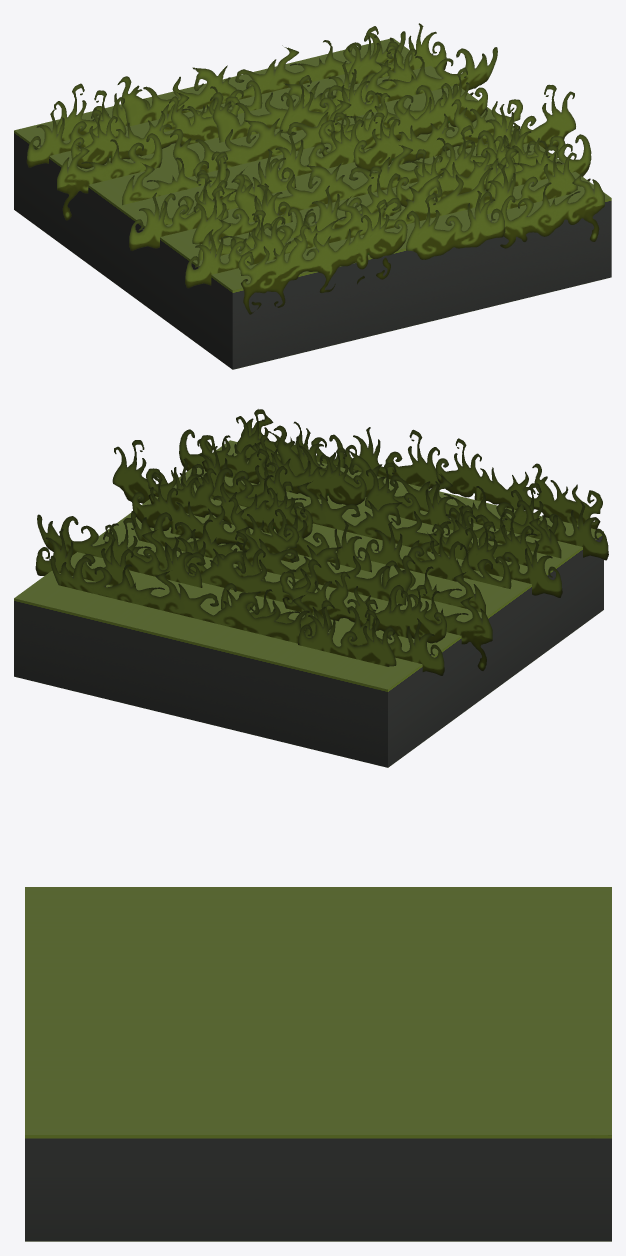
Rendered from Gound_Tile_01.fbx.
3 views of the same model, one above another, from view 1: azimuth 30°, elevation 25°; view 2: azimuth 150°, elevation 25°; view 3: azimuth 270°, elevation 25° (orthographic). The views are drawn at different scales.
Parts seen in each view (by area): view 1: Ground_Tile01; view 2: Ground_Tile01; view 3: Ground_Tile01.
Part boxes in pixels (x1=…): Ground_Tile01: x1=14, y1=23, x2=611, y2=369; Ground_Tile01: x1=14, y1=409, x2=608, y2=767; Ground_Tile01: x1=25, y1=887, x2=611, y2=1241.
Size of the model in its own units: 3.66 by 1.05 by 3.06.
